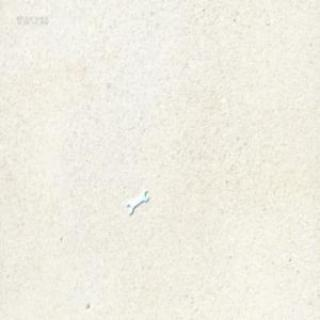Wrenchtrack_idkeyframe: (125, 188, 148, 216)
